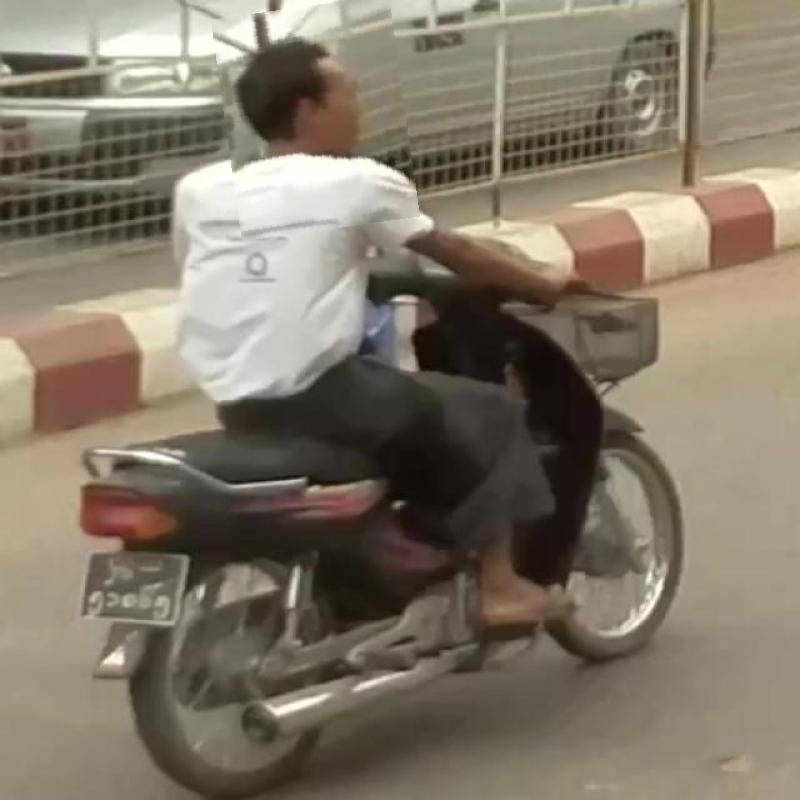nohelmet: (218, 0, 412, 236)
